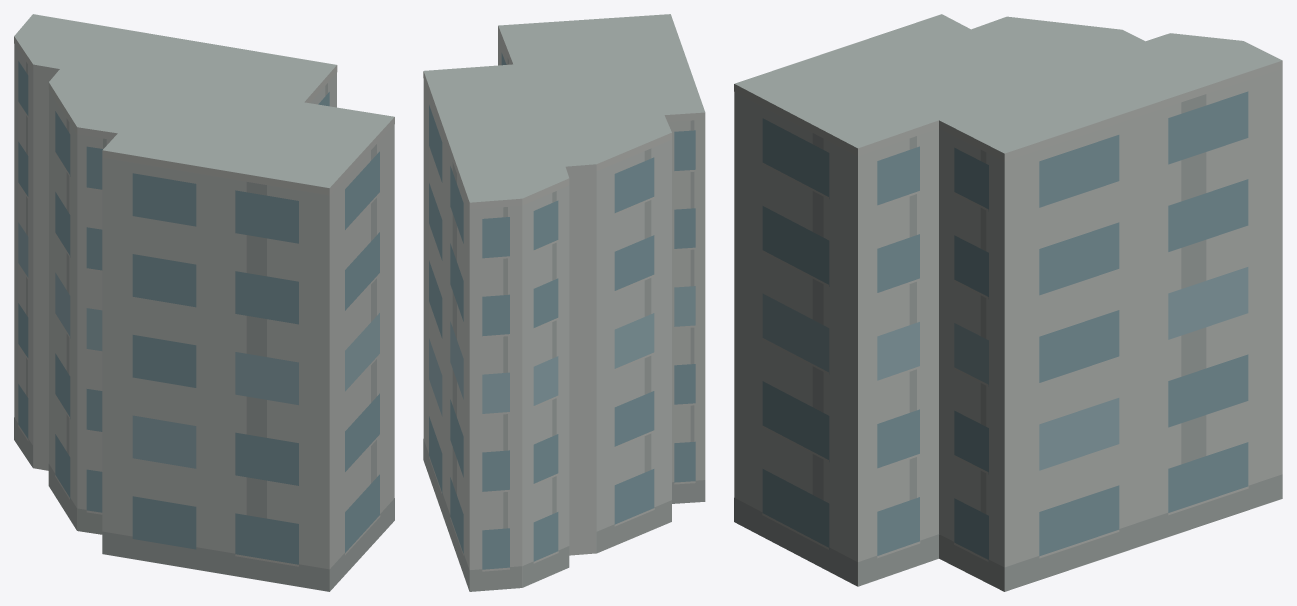
File: survey-upis-32774871.glb
The picture shows the model from 3 angles, left to right: view 1: azimuth 30°, elevation 25°; view 2: azimuth 150°, elevation 25°; view 3: azimuth 270°, elevation 25°; orthographic projection. The views are drawn at different scales.
Visible parts, largest first — view 1: survey-upis-32774871.tmp; view 2: survey-upis-32774871.tmp; view 3: survey-upis-32774871.tmp.
Part boxes in pixels (box(x1,y1,x2,y2)): survey-upis-32774871.tmp: box(14, 14, 394, 591); survey-upis-32774871.tmp: box(423, 14, 705, 591); survey-upis-32774871.tmp: box(734, 14, 1282, 591).
Bounding box in the file's own units: 9.09 × 13.3 × 15.09.
